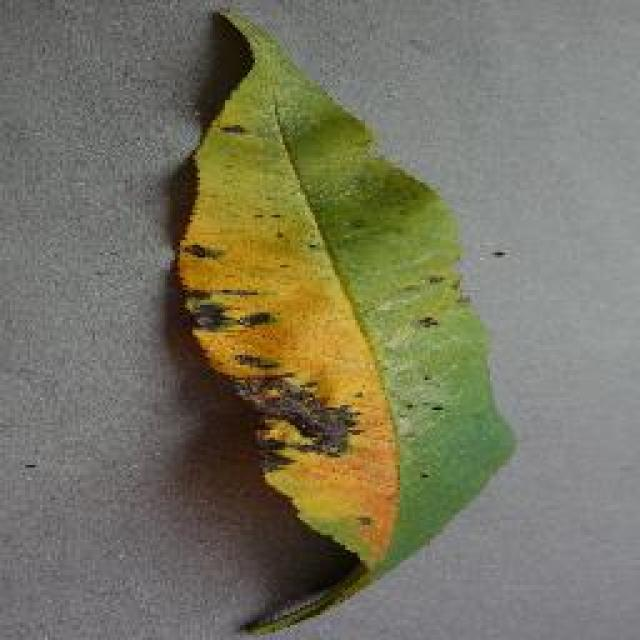Peach_Bacterial_Spot: (178, 146, 425, 566)
